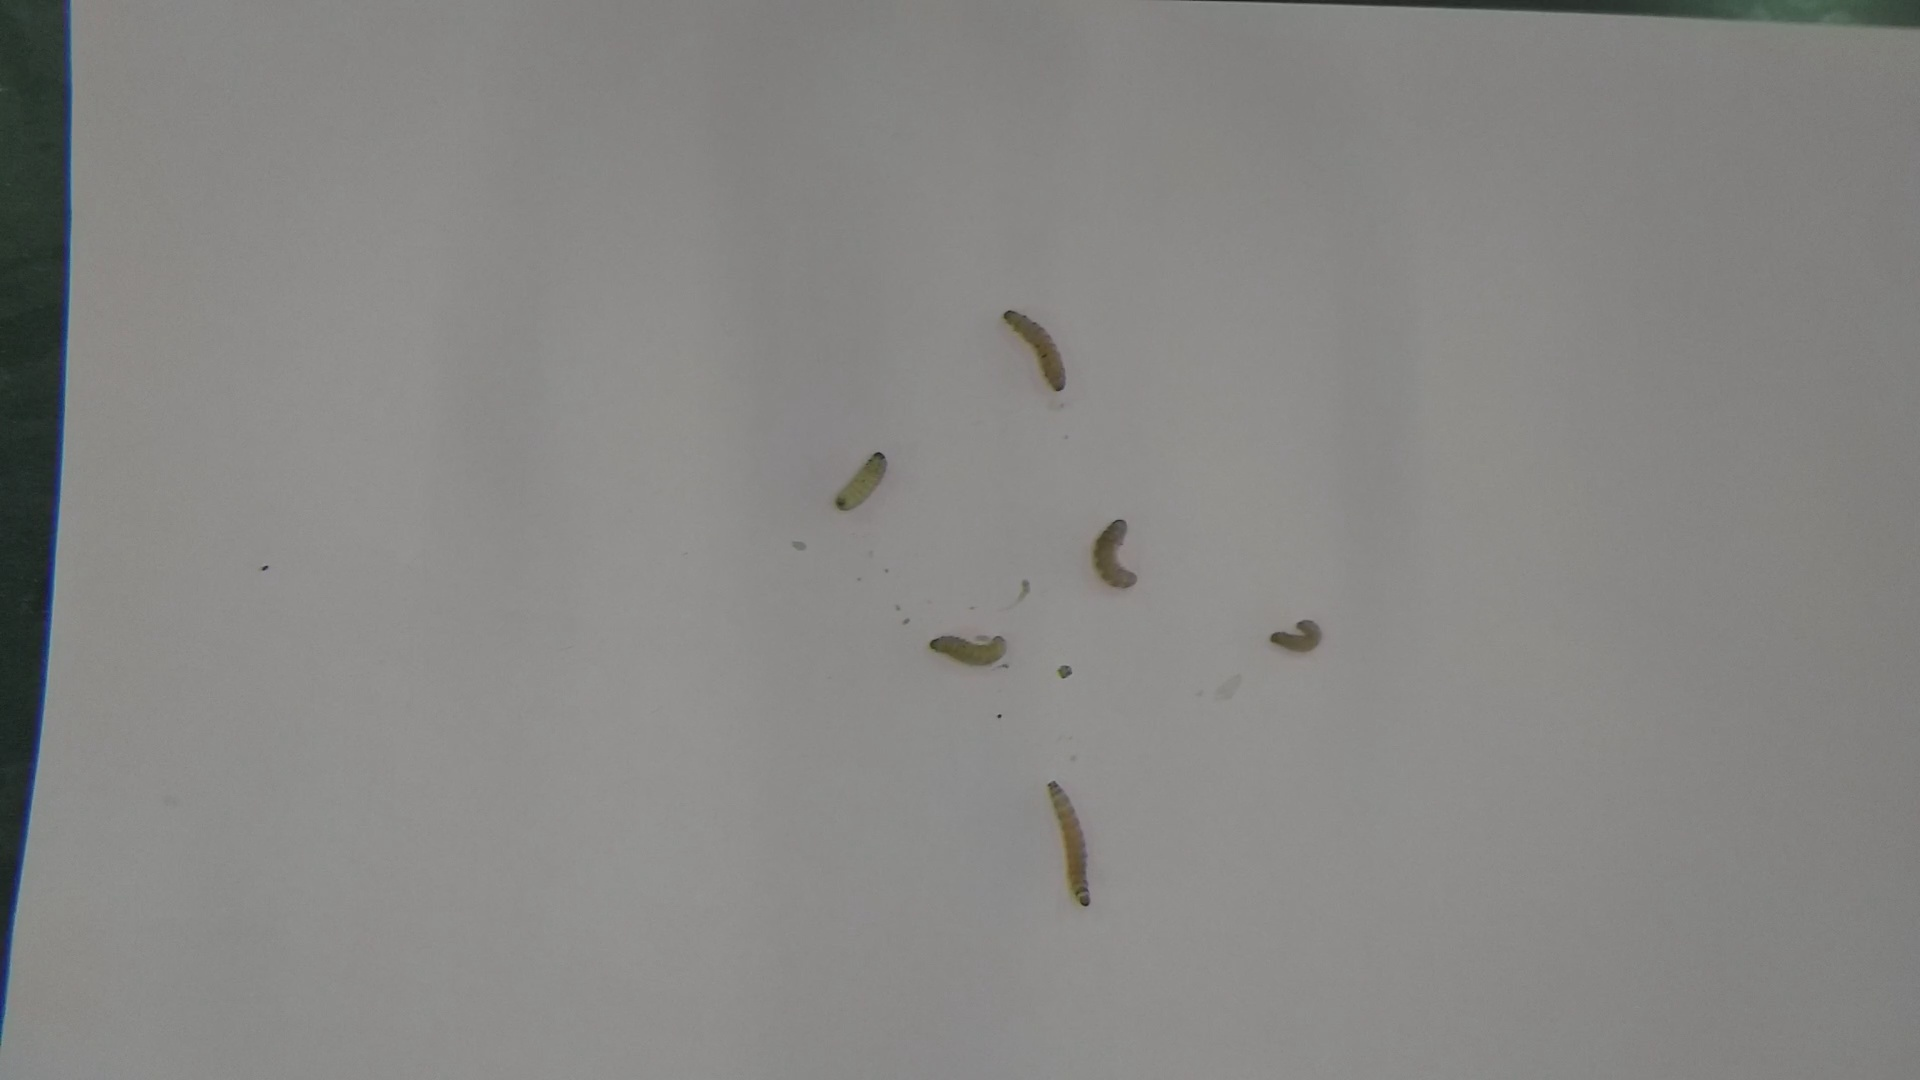efsb: (1044, 770, 1098, 922), (1000, 307, 1071, 400), (827, 439, 897, 520), (1083, 510, 1143, 599), (916, 626, 1019, 671), (1253, 615, 1329, 661)
